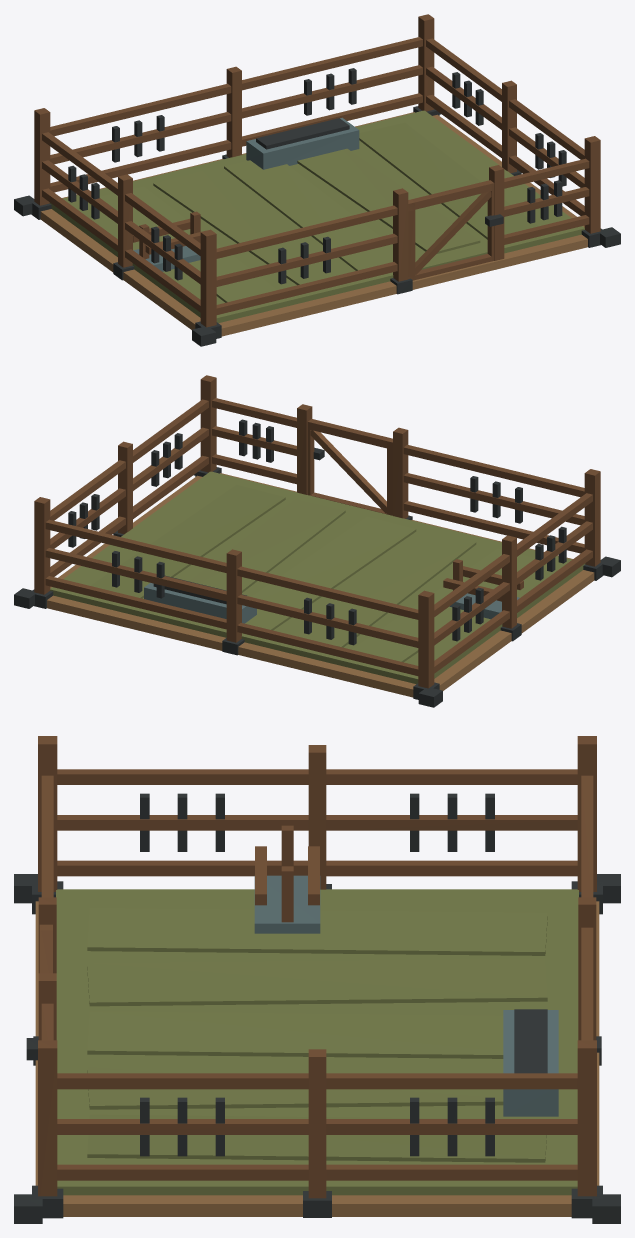
Rendered from fenced-grazing-field.source.glb.
3 views of the same model, one above another, from view 1: azimuth 30°, elevation 25°; view 2: azimuth 150°, elevation 25°; view 3: azimuth 270°, elevation 25° (orthographic). The views are drawn at different scales.
Visible parts, largest first — view 1: fenced-grazing-field-grazing-surface-mesh, fenced-grazing-field-earth-perimeter-curb-mesh, fenced-grazing-field-grazing-strip-2-mesh, fenced-grazing-field-grazing-strip-3-mesh, fenced-grazing-field-grazing-strip-5-mesh, fenced-grazing-field-grazing-strip-4-mesh, fenced-grazing-field-grazing-strip-1-mesh, fenced-grazing-field-long-water-trough-mesh, fenced-grazing-field-front-left-rail-3-mesh, fenced-grazing-field-front-left-rail-1-mesh, fenced-grazing-field-rear-right-rail-3-mesh, fenced-grazing-field-rear-left-rail-3-mesh (+35 smaller); view 2: fenced-grazing-field-grazing-surface-mesh, fenced-grazing-field-earth-perimeter-curb-mesh, fenced-grazing-field-grazing-strip-2-mesh, fenced-grazing-field-grazing-strip-3-mesh, fenced-grazing-field-grazing-strip-5-mesh, fenced-grazing-field-grazing-strip-4-mesh, fenced-grazing-field-grazing-strip-1-mesh, fenced-grazing-field-rear-left-rail-3-mesh, fenced-grazing-field-rear-left-rail-1-mesh, fenced-grazing-field-rear-right-rail-3-mesh, fenced-grazing-field-rear-right-rail-1-mesh, fenced-grazing-field-front-left-rail-3-mesh (+33 smaller); view 3: fenced-grazing-field-grazing-surface-mesh, fenced-grazing-field-grazing-strip-2-mesh, fenced-grazing-field-grazing-strip-1-mesh, fenced-grazing-field-grazing-strip-3-mesh, fenced-grazing-field-earth-perimeter-curb-mesh, fenced-grazing-field-grazing-strip-5-mesh, fenced-grazing-field-grazing-strip-4-mesh, fenced-grazing-field-left-rear-rail-1-mesh, fenced-grazing-field-right-front-rail-1-mesh, fenced-grazing-field-right-front-rail-3-mesh, fenced-grazing-field-right-rear-rail-1-mesh, fenced-grazing-field-right-rear-rail-3-mesh (+28 smaller).
Part boxes in pixels (x1,y1,x2,y2): fenced-grazing-field-grazing-surface-mesh: (49, 110, 584, 323); fenced-grazing-field-earth-perimeter-curb-mesh: (40, 112, 587, 336); fenced-grazing-field-grazing-strip-2-mesh: (153, 170, 349, 285); fenced-grazing-field-grazing-strip-3-mesh: (224, 160, 392, 270); fenced-grazing-field-grazing-strip-5-mesh: (359, 122, 538, 239); fenced-grazing-field-grazing-strip-4-mesh: (297, 148, 480, 253); fenced-grazing-field-grazing-strip-1-mesh: (99, 186, 276, 302); fenced-grazing-field-long-water-trough-mesh: (246, 117, 359, 169); fenced-grazing-field-front-left-rail-3-mesh: (216, 205, 397, 258); fenced-grazing-field-front-left-rail-1-mesh: (216, 262, 397, 314); fenced-grazing-field-rear-right-rail-3-mesh: (242, 37, 422, 90); fenced-grazing-field-rear-left-rail-3-mesh: (50, 83, 231, 136); fenced-grazing-field-grazing-surface-mesh: (50, 471, 585, 684); fenced-grazing-field-earth-perimeter-curb-mesh: (47, 473, 594, 697); fenced-grazing-field-grazing-strip-2-mesh: (291, 530, 476, 647); fenced-grazing-field-grazing-strip-3-mesh: (245, 516, 416, 630); fenced-grazing-field-grazing-strip-5-mesh: (90, 484, 285, 598); fenced-grazing-field-grazing-strip-4-mesh: (189, 499, 345, 592); fenced-grazing-field-grazing-strip-1-mesh: (351, 548, 535, 662); fenced-grazing-field-rear-left-rail-3-mesh: (237, 566, 418, 619); fenced-grazing-field-rear-left-rail-1-mesh: (237, 623, 418, 675); fenced-grazing-field-rear-right-rail-3-mesh: (45, 519, 226, 572); fenced-grazing-field-rear-right-rail-1-mesh: (45, 576, 226, 629); fenced-grazing-field-front-left-rail-3-mesh: (403, 444, 584, 497); fenced-grazing-field-grazing-surface-mesh: (56, 889, 578, 1195); fenced-grazing-field-grazing-strip-2-mesh: (87, 958, 547, 1006); fenced-grazing-field-grazing-strip-1-mesh: (87, 907, 547, 955); fenced-grazing-field-grazing-strip-3-mesh: (87, 1011, 503, 1058); fenced-grazing-field-earth-perimeter-curb-mesh: (35, 901, 599, 1216); fenced-grazing-field-grazing-strip-5-mesh: (87, 1114, 546, 1162); fenced-grazing-field-grazing-strip-4-mesh: (87, 1062, 503, 1109); fenced-grazing-field-left-rear-rail-1-mesh: (326, 860, 577, 876); fenced-grazing-field-right-front-rail-1-mesh: (57, 1164, 308, 1180); fenced-grazing-field-right-front-rail-3-mesh: (57, 1073, 308, 1089); fenced-grazing-field-right-rear-rail-1-mesh: (326, 1164, 577, 1180); fenced-grazing-field-right-rear-rail-3-mesh: (326, 1073, 577, 1089).
Bounding box in the file's own units: 6.56 × 1.54 × 5.06.
